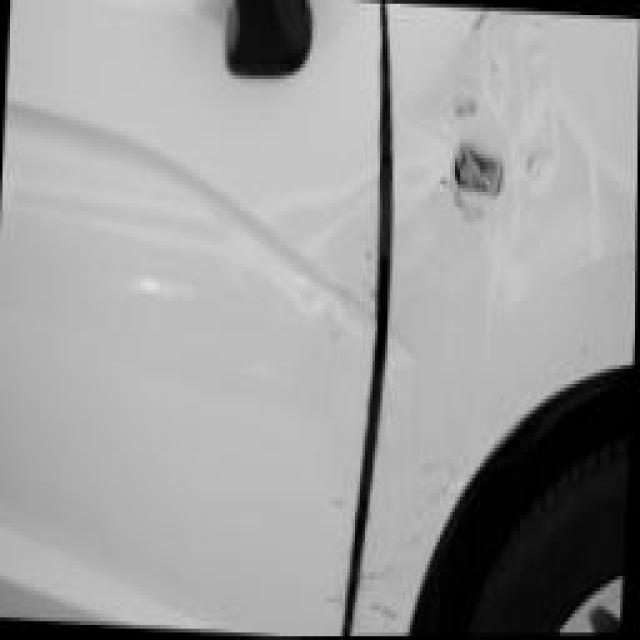Door: (0, 26, 390, 640)
Fender: (380, 8, 632, 379)
